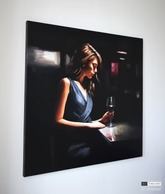painting: (23, 19, 144, 176)
